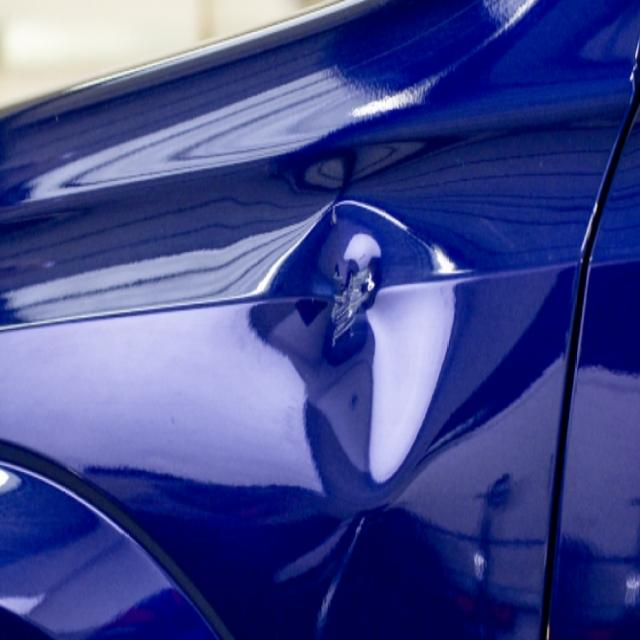dents: (235, 211, 462, 501)
